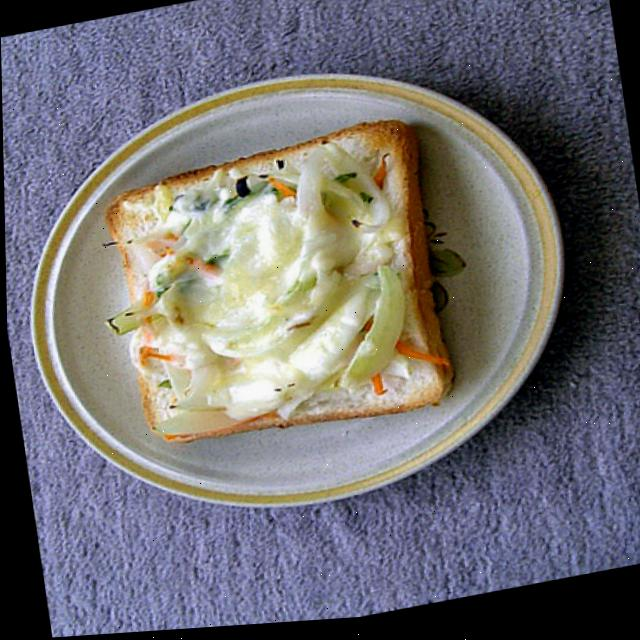面包点心: (25, 0, 640, 411)
